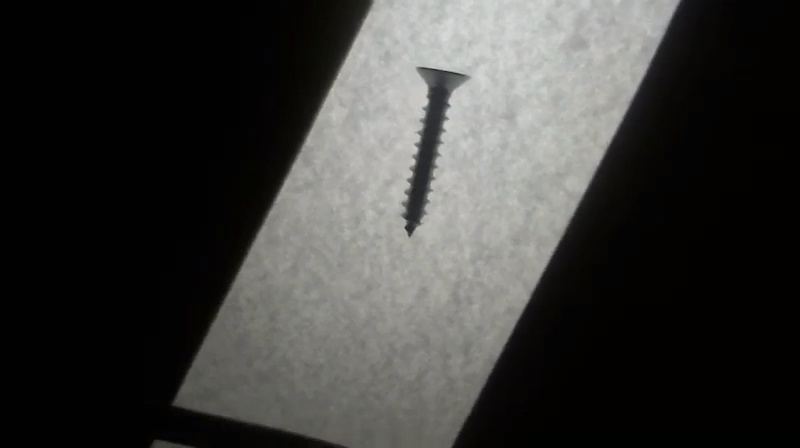S001: (398, 60, 472, 240)
